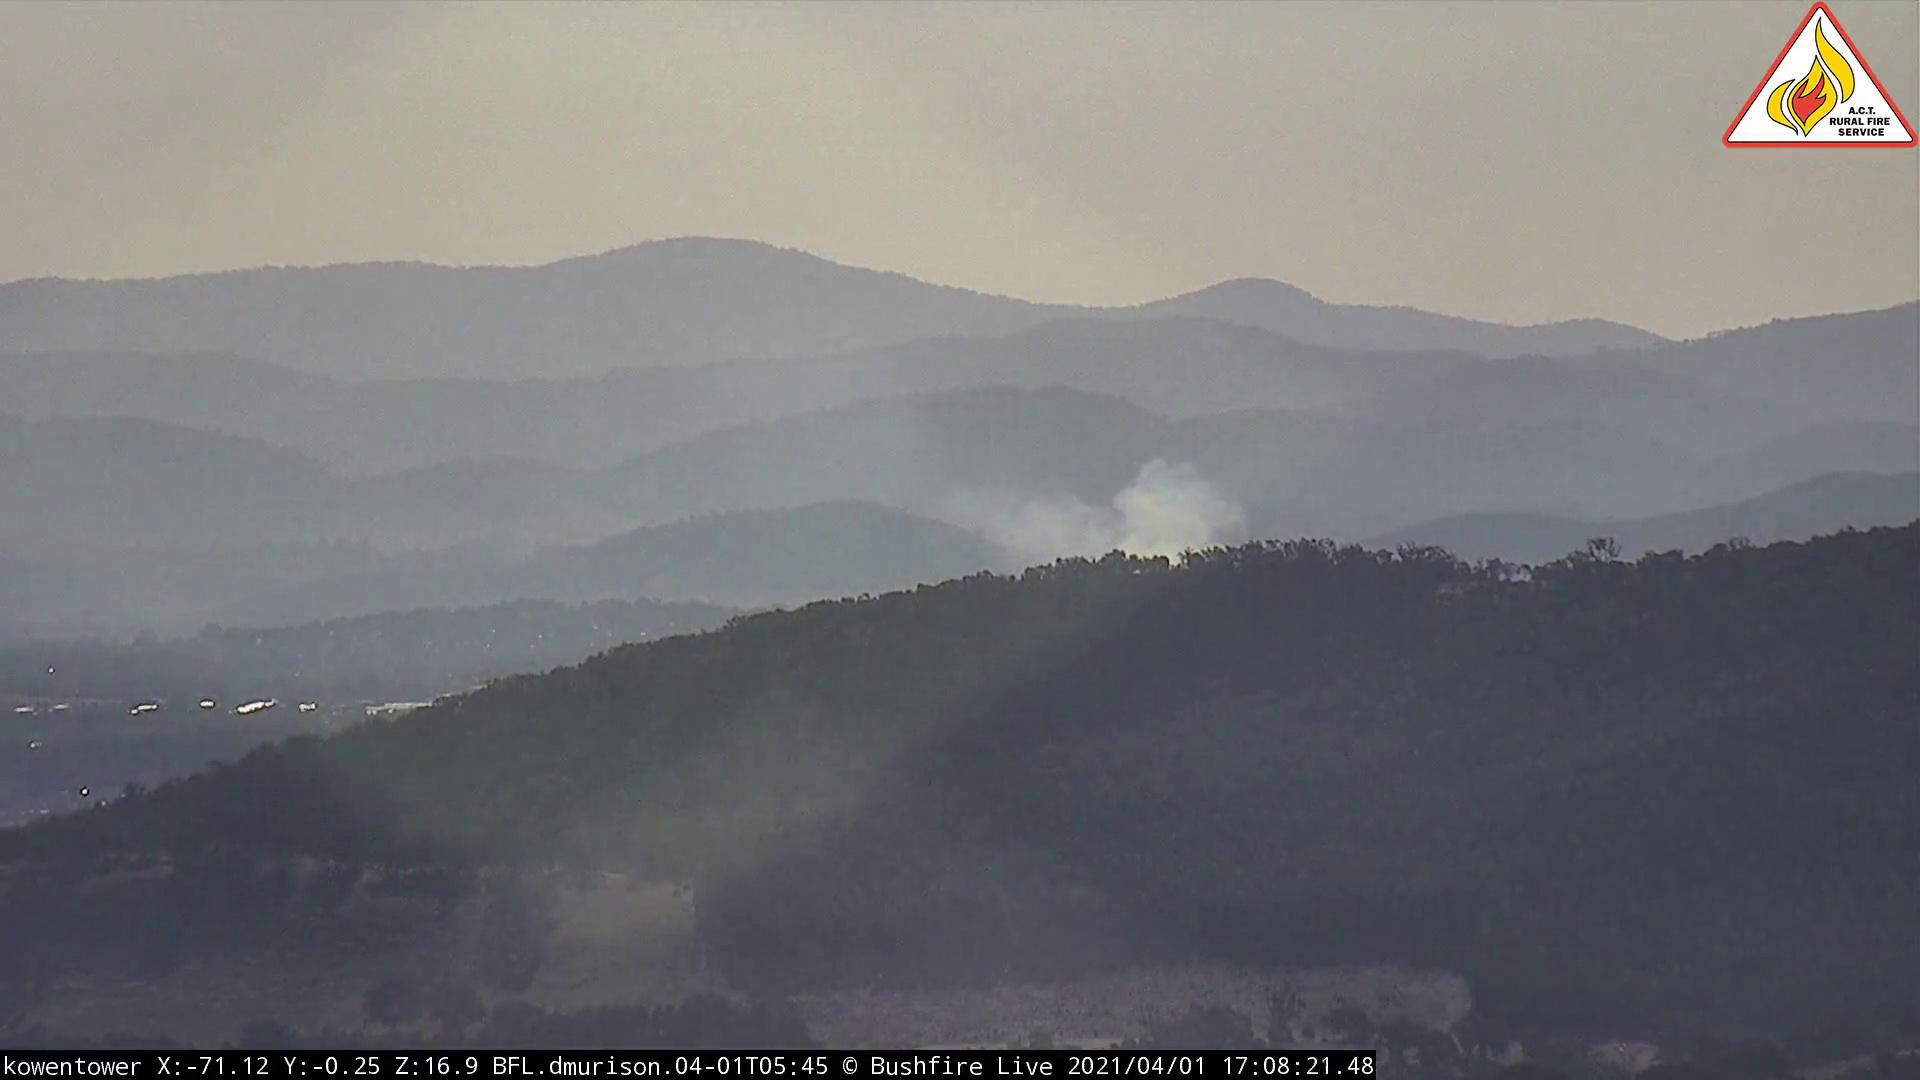instance_salient_object: (963, 448, 1296, 603)
